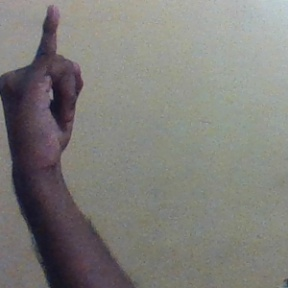I: (7, 4, 85, 172)
